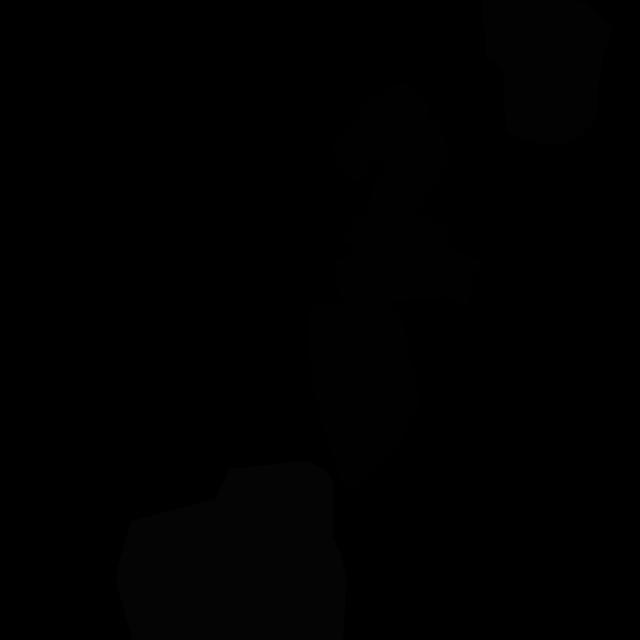cardboard: (482, 0, 612, 144)
rigid_plastic: (330, 83, 484, 308), (307, 300, 420, 497)
soft_plastic: (116, 460, 346, 640)
